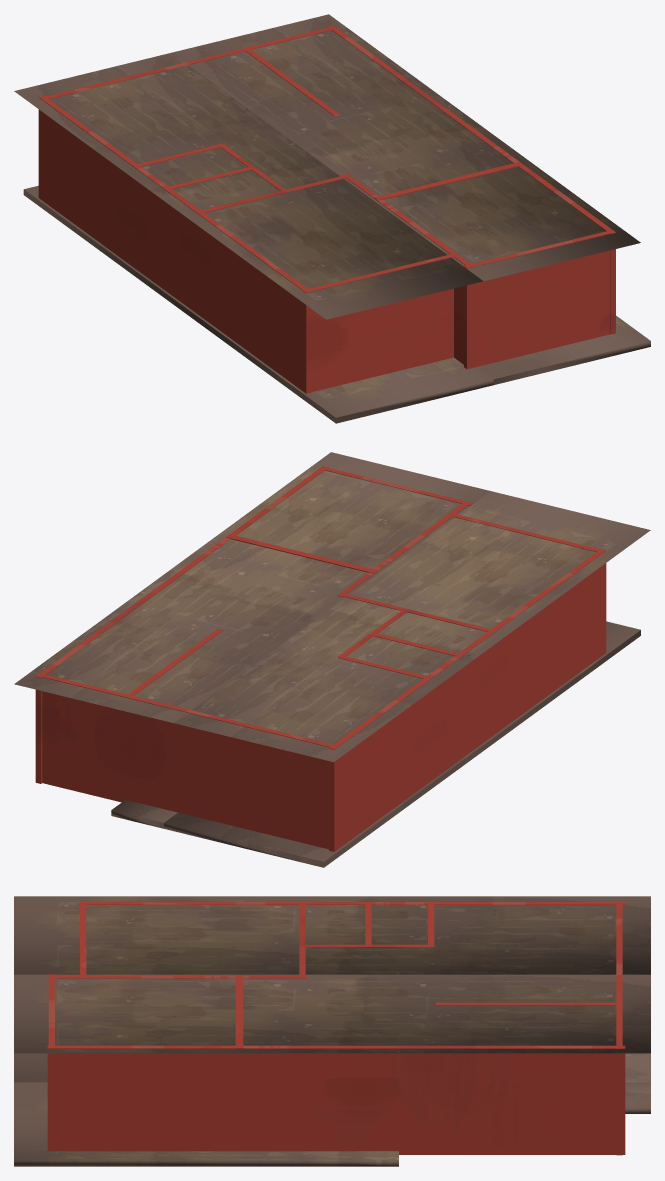
The model's file is Andar_2.fbx.
3 renders of one model, top to bottom at view 1: azimuth 30°, elevation 25°; view 2: azimuth 150°, elevation 25°; view 3: azimuth 270°, elevation 25°, orthographic.
Visible parts, largest first — view 1: Chao.003, Paredes.002, Chao.002; view 2: Chao.003, Paredes.002, Chao.002; view 3: Chao.003, Paredes.002, Chao.002.
Boxes of the visible parts, <box> form: Chao.003: <box>14,14,640,319</box>; Paredes.002: <box>38,25,615,393</box>; Chao.002: <box>23,185,650,423</box>; Chao.003: <box>14,452,650,762</box>; Paredes.002: <box>35,466,606,851</box>; Chao.002: <box>111,621,640,867</box>; Chao.003: <box>14,896,650,1053</box>; Paredes.002: <box>47,902,625,1155</box>; Chao.002: <box>14,1053,650,1166</box>.
Bounding box in the file's own units: 1291 × 407 × 2150.
Materials: 2 (2 with a texture image).
